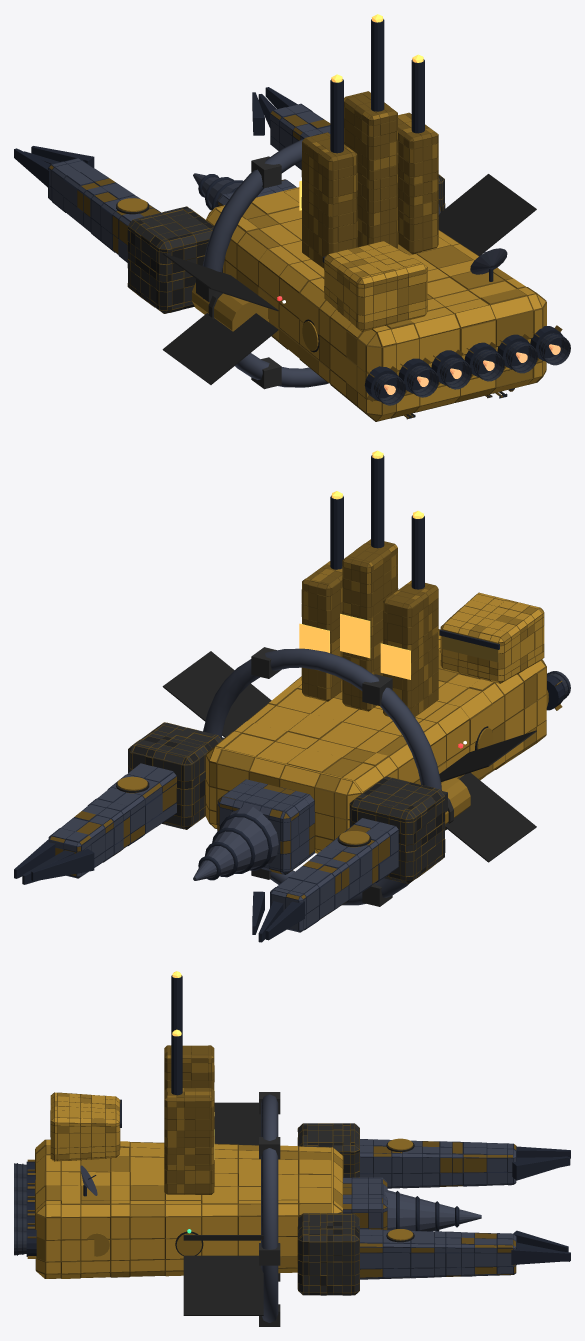
Rendered from starforge.glb.
3 renders of one model, top to bottom at view 1: azimuth 30°, elevation 25°; view 2: azimuth 150°, elevation 25°; view 3: azimuth 270°, elevation 25°, orthographic. The views are drawn at different scales.
Parts seen in each view (by area): view 1: starforge_mesh, radar_mesh; view 2: starforge_mesh; view 3: starforge_mesh.
Boxes of the visible parts, x1=… form: starforge_mesh: x1=14, y1=14, x2=570, y2=421; radar_mesh: x1=470, y1=248, x2=507, y2=281; starforge_mesh: x1=14, y1=450, x2=570, y2=942; starforge_mesh: x1=14, y1=971, x2=570, y2=1326.
Size of the model in its own units: 38.04 by 45.77 by 67.44.
